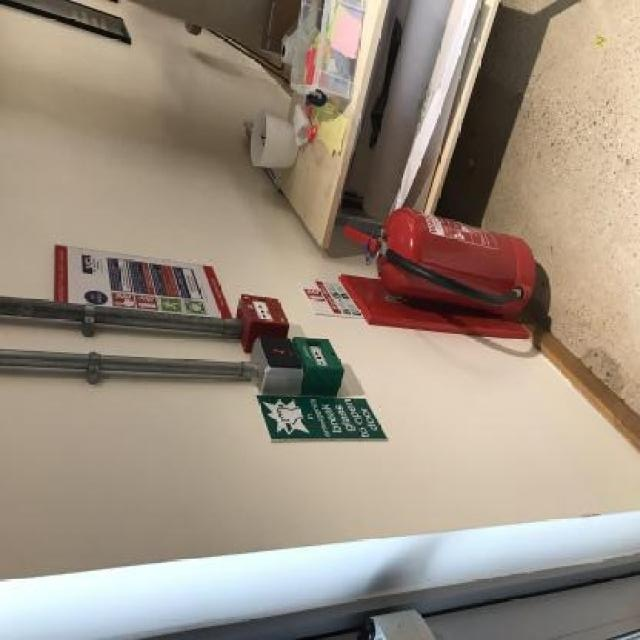fire extinguisher: (343, 205, 537, 319)
